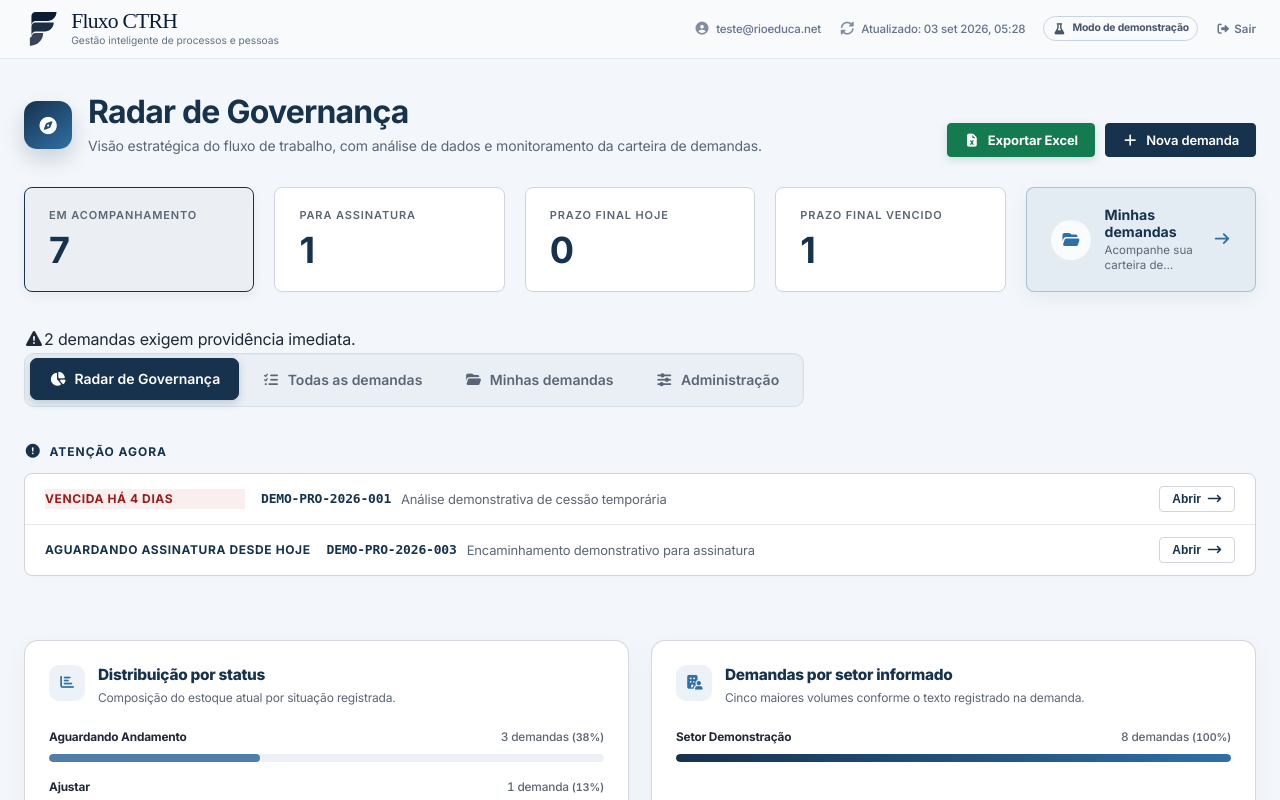
Scenario: App no modo local › encerra a sessão local sem remover as demandas
Click the button "Sair": (1236, 29) [1216,22,1256,36]
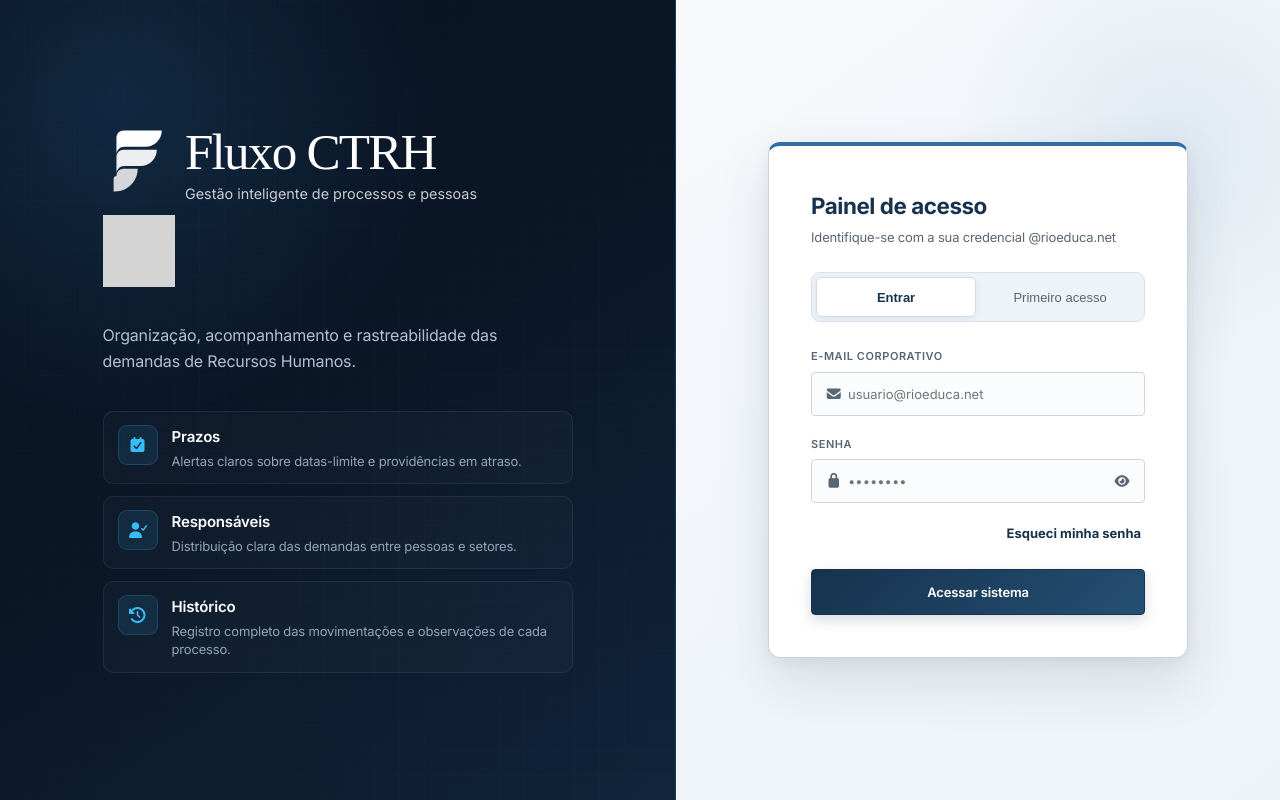
Now the button "Acessar sistema" is shown, box [811,570,1145,616]
